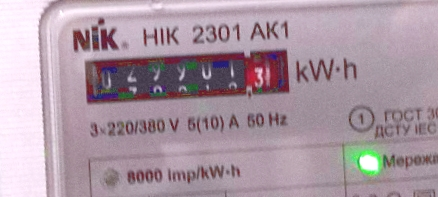0: (197, 55, 214, 81), (97, 67, 113, 90)
1: (224, 54, 237, 79)
2: (122, 60, 139, 83)
3: (250, 64, 266, 88)
9: (173, 59, 187, 82), (148, 59, 161, 81)
screen: (75, 40, 299, 114)
